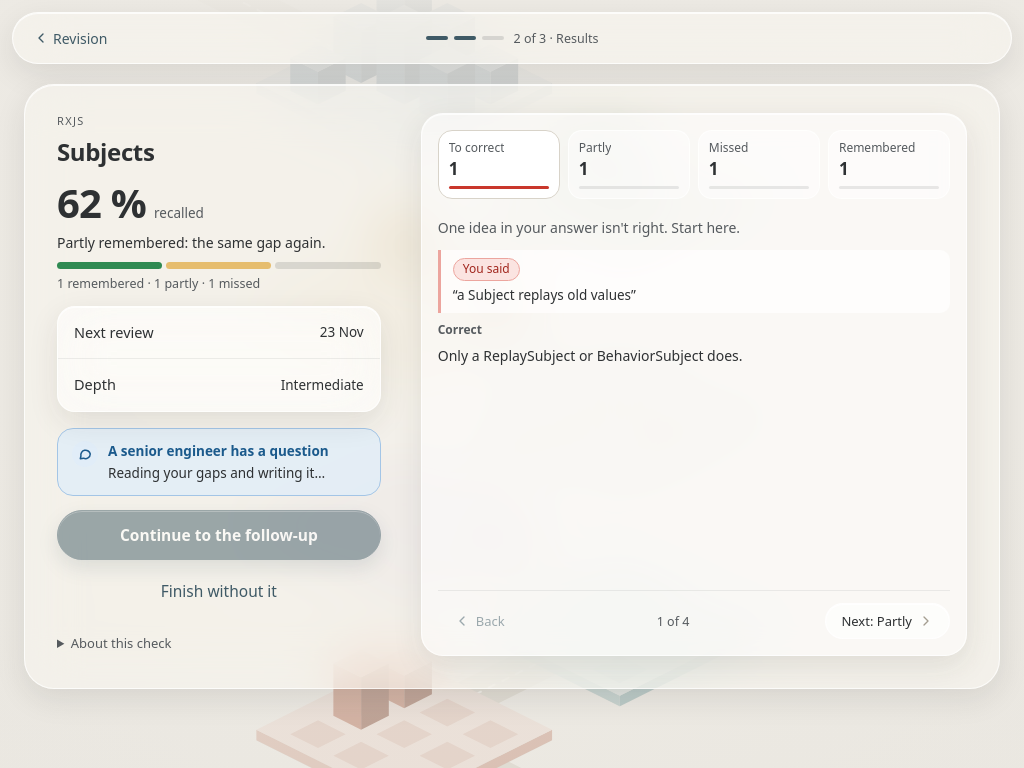
it: recall page › shows the summary on the left and the results as screens, worst first
The image size is (1024, 768).
expect the text "62 %" is shown: met, box [57,183,146,223]
expect the heading "Subjects" is shown: met, box [57,135,154,168]
// 2 · partly: your words, then the complete point
Click the button "Next: Partly": {"x": 888, "y": 621} [825,603,950,639]
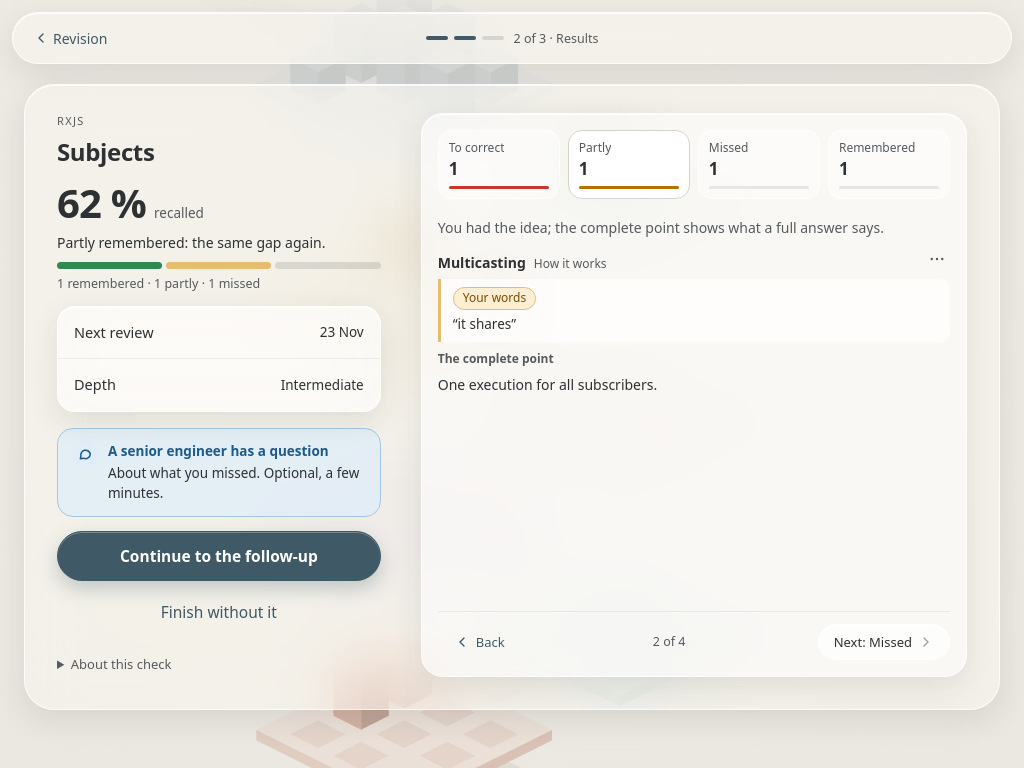
expect the text "“it shares”" is shown: met, box [453,314,516,334]
expect the text "The complete point" is shown: met, box [438,350,554,368]
expect the text "One execution for all subscribers." is shown: met, box [438,374,657,395]
Click the button with aria-label "Missed: 1 point": {"x": 759, "y": 164} [698,130,820,199]
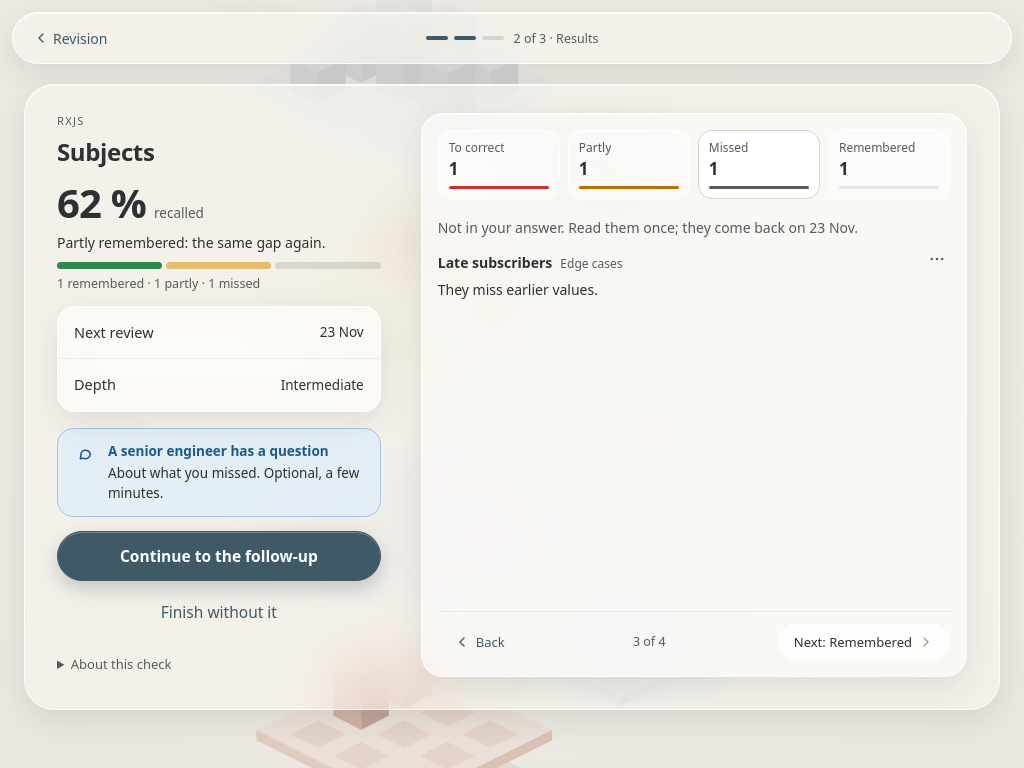
expect the text "they come back on 23 Nov" is shown: met, box [438,218,858,237]
Press ArrowRight in the element named "Missed", box [438,218,950,299]
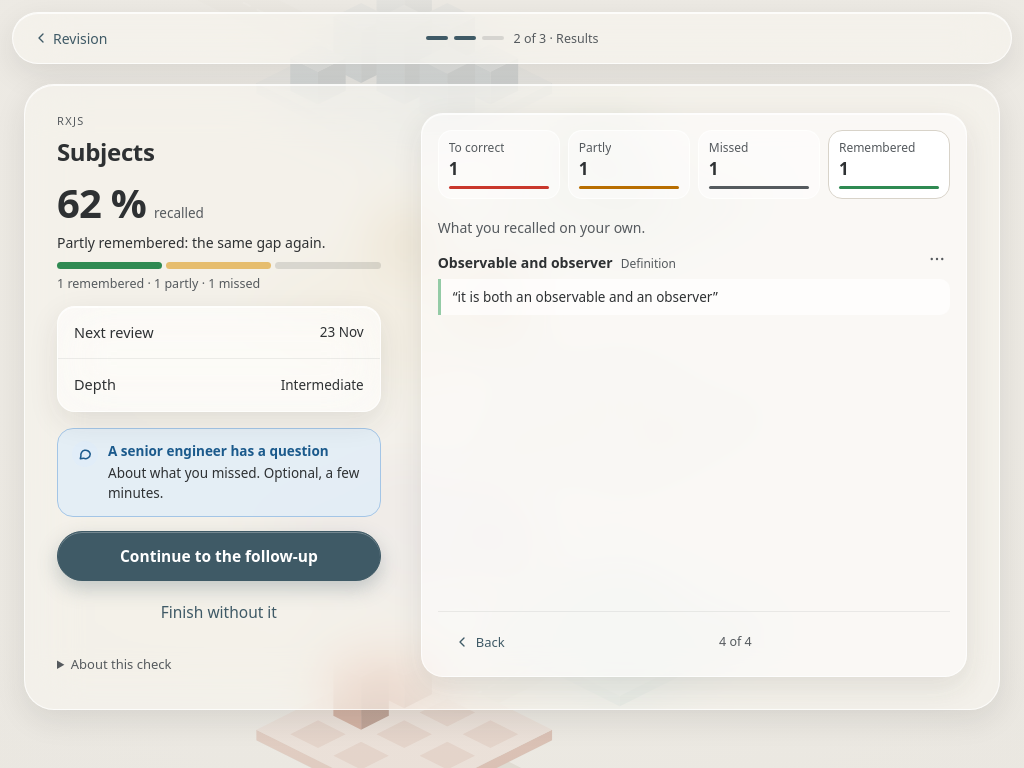
expect the text "“it is both an observable and an observer”" is shown: met, box [453,287,718,307]
expect the text "4 of 4" is shown: met, box [719,633,752,650]
Click the button "Back": {"x": 479, "y": 642} [438,624,521,660]
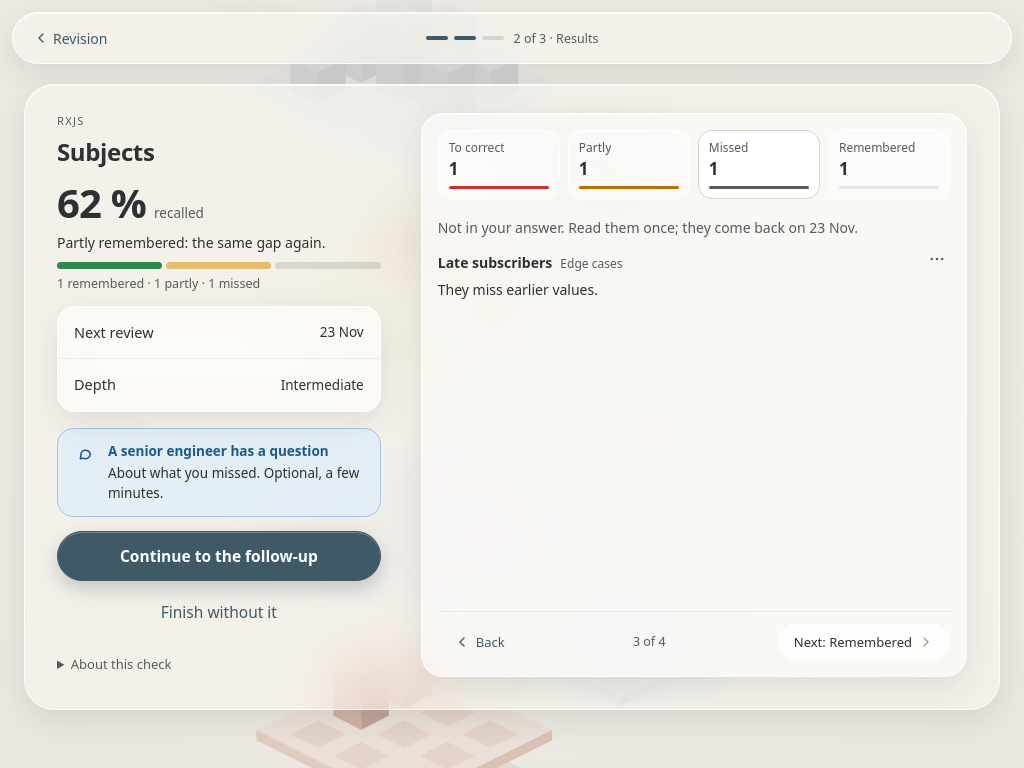
expect the element named "Missed" is shown: met, box [438,218,950,299]
